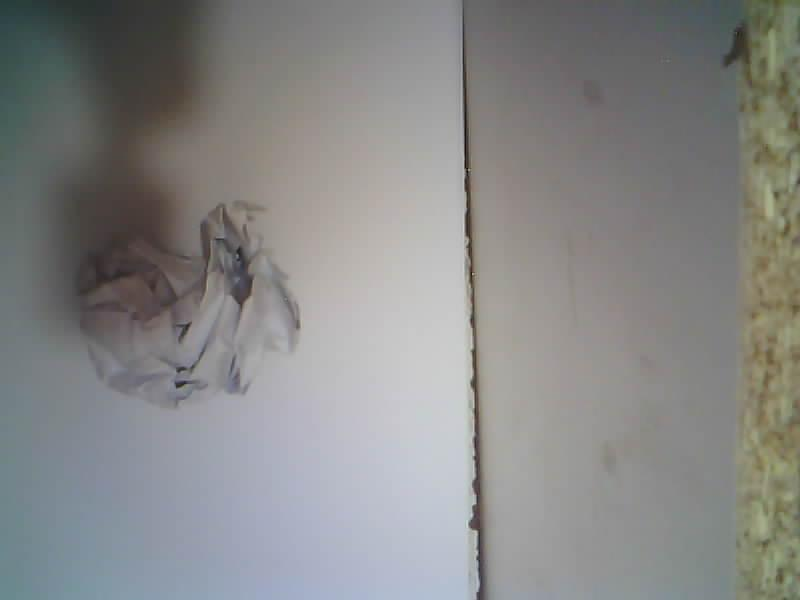biodegradable: (79, 204, 300, 407)
